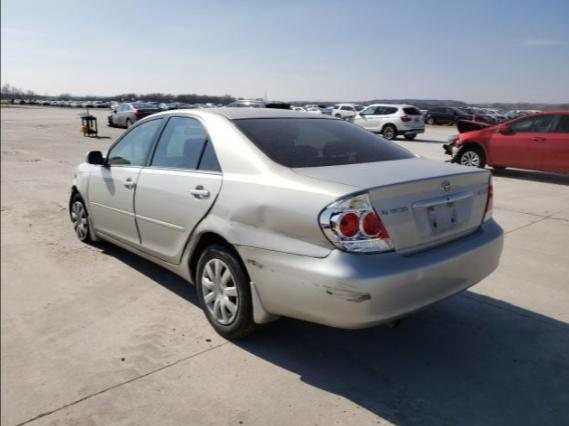Broken part: (176, 184, 223, 268)
Dent: (227, 203, 332, 250), (168, 222, 219, 268), (207, 205, 226, 226)
Missing part: (428, 202, 457, 233)
Paint chip: (336, 284, 370, 302), (244, 257, 267, 270), (319, 286, 330, 294)
